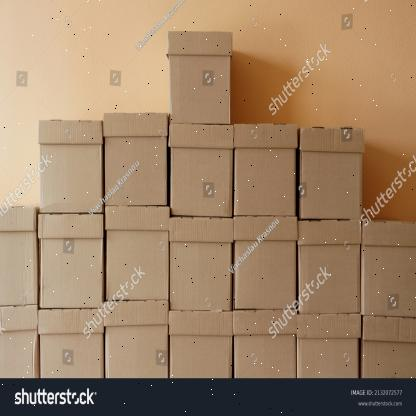box: (166, 29, 233, 125), (38, 213, 105, 308), (102, 113, 169, 207), (104, 206, 170, 301), (168, 126, 233, 220), (298, 219, 362, 314), (38, 121, 104, 213), (232, 123, 298, 215), (233, 217, 298, 309), (169, 218, 233, 310), (300, 127, 364, 218), (361, 221, 416, 316), (104, 300, 170, 378), (38, 307, 104, 377), (233, 311, 297, 379), (170, 311, 233, 379), (297, 314, 361, 379), (0, 209, 38, 306), (361, 316, 416, 380), (0, 305, 39, 378)
